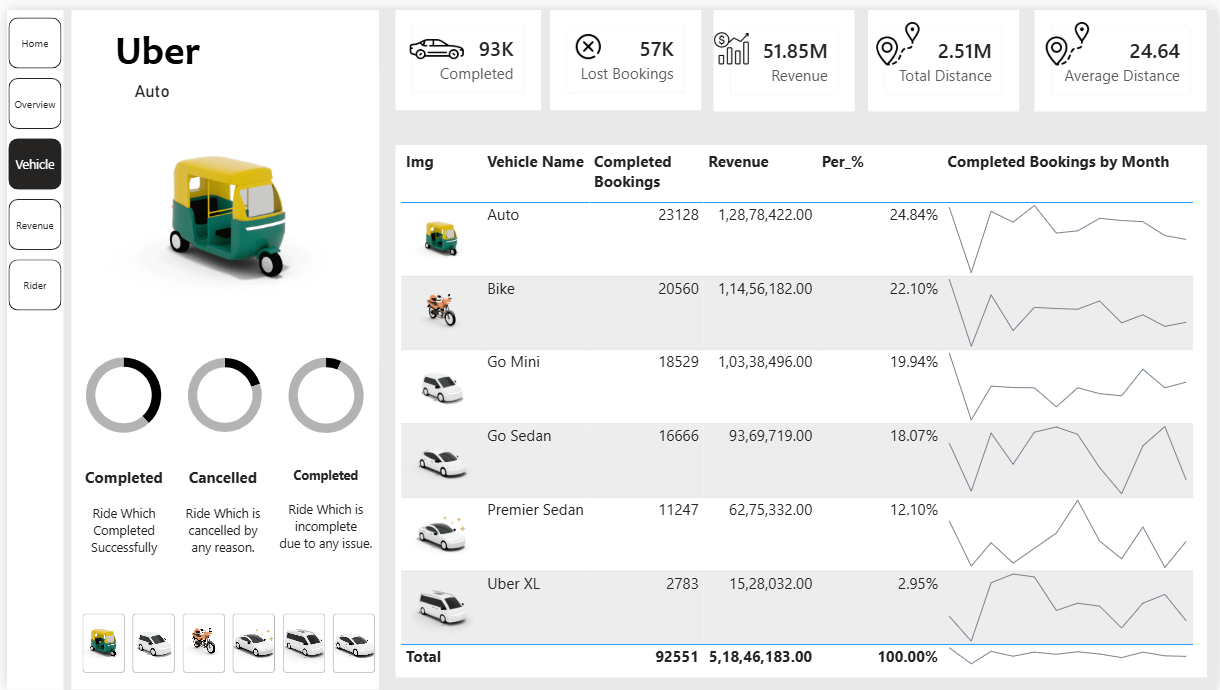

What the dashboard file says about the page in this screenshot:
{"tool":"powerbi","page":{"name":" Vehicle","canvas":[1280,720],"ordinal":2},"visuals":[{"type":"shape","box":[0,0,59.7,719.4],"z":0},{"type":"shape","box":[68.5,0.7,325.4,719],"z":0,"group":"g1"},{"type":"cardVisual","fields":{"Data":["_measure.Completed Bookings"]},"box":[410.4,0,153.7,106],"z":1000},{"type":"cardVisual","fields":{"Data":["_measure.Lost Bookings"]},"box":[574.6,0,159.7,106],"z":2000},{"type":"textbox","box":[110.1,12.1,107.1,64.2],"z":2000,"group":"g1"},{"type":"cardVisual","fields":{"Data":["_measure.Booking Value"]},"box":[747.8,0,149.3,107.5],"z":3000},{"type":"cardVisual","fields":{"Data":["_measure.Total Distance"]},"box":[910.4,0,159.7,107.5],"z":4000},{"type":"group","id":"g1","title":"Group 1","box":[68.5,0.7,325.4,719],"z":5000},{"type":"cardVisual","fields":{"Data":["_measure.Average Distance"]},"box":[1086.6,0,182.1,107.5],"z":6000},{"type":"advancedSlicerVisual","fields":{"Values":["Img.Img"]},"box":[74.6,633.3,325.4,73],"z":7000},{"type":"cardVisual","fields":{"Data":["Min(Img.Img)"]},"box":[74.6,61.9,319,311.1],"z":8000},{"type":"card","fields":{"Values":["Min(Img.Vehicle Type)"]},"box":[69.8,63.5,166.7,44.4],"z":9000},{"type":"textbox","box":[71.4,477.8,104.8,131.7],"z":10000},{"type":"group","id":"g2","title":"Group 4","box":[68.3,342.9,323.8,128.6],"z":11000},{"type":"textbox","box":[176.2,477.8,104.8,131.7],"z":12000},{"type":"textbox","box":[281,477.8,112.7,131.7],"z":13000},{"type":"image","box":[417.5,12.7,74.6,57.1],"z":14000},{"type":"image","box":[734.9,22.2,63.5,36.5],"z":15000},{"type":"image","box":[911.1,12.7,63.5,46],"z":16000},{"type":"image","box":[1090.5,12.7,63.5,46],"z":17000},{"type":"image","box":[590.5,25.4,49.2,27],"z":18000},{"type":"tableEx","fields":{"Values":["Img.Img","Uber.Vehicle_Type_ve","_measure.Completed Bookings","_measure.Revenue","_measure.Per_%","SparklineData(_measure.Completed Bookings_[calender.Month])"]},"box":[410.3,142.3,858.6,563.3],"z":19000},{"type":"pageNavigator","box":[1.5,7.5,56.7,310.4],"z":20000},{"type":"donutChart","fields":{"Y":["_measure.Booking count","_measure.remove Bookings status Filter"]},"box":[176.2,342.9,107.9,128.6],"z":20000,"group":"g2"},{"type":"donutChart","fields":{"Y":["_measure.Booking count","_measure.remove Bookings status Filter"]},"box":[282.6,347.4,109.5,119.6],"z":21000,"group":"g2"},{"type":"donutChart","fields":{"Y":["_measure.Booking count","_measure.remove Bookings status Filter"]},"box":[68.3,342.9,109.5,128.6],"z":22000,"group":"g2"}]}

Visuals, with their boxes in screenshot pixels (x1, y1, x2, y2), scaled from the page's 1280x720 canvas onto the 1220x690 screenshot:
shape: (left=0, top=0, right=57, bottom=689)
shape: (left=65, top=1, right=375, bottom=689)
cardVisual - _measure.Completed Bookings: (left=391, top=0, right=538, bottom=102)
cardVisual - _measure.Lost Bookings: (left=548, top=0, right=700, bottom=102)
textbox: (left=105, top=12, right=207, bottom=73)
cardVisual - _measure.Booking Value: (left=713, top=0, right=855, bottom=103)
cardVisual - _measure.Total Distance: (left=868, top=0, right=1020, bottom=103)
"Group 1" group: (left=65, top=1, right=375, bottom=689)
cardVisual - _measure.Average Distance: (left=1036, top=0, right=1209, bottom=103)
advancedSlicerVisual - Img.Img: (left=71, top=607, right=381, bottom=677)
cardVisual - Min(Img.Img): (left=71, top=59, right=375, bottom=357)
card - Min(Img.Vehicle Type): (left=67, top=61, right=225, bottom=103)
textbox: (left=68, top=458, right=168, bottom=584)
"Group 4" group: (left=65, top=329, right=374, bottom=452)
textbox: (left=168, top=458, right=268, bottom=584)
textbox: (left=268, top=458, right=375, bottom=584)
image: (left=398, top=12, right=469, bottom=67)
image: (left=700, top=21, right=761, bottom=56)
image: (left=868, top=12, right=929, bottom=56)
image: (left=1039, top=12, right=1100, bottom=56)
image: (left=563, top=24, right=610, bottom=50)
tableEx - Img.Img x Uber.Vehicle_Type_ve: (left=391, top=136, right=1209, bottom=676)
pageNavigator: (left=1, top=7, right=55, bottom=305)
donutChart - _measure.Booking count x _measure.remove Bookings status Filter: (left=168, top=329, right=271, bottom=452)
donutChart - _measure.Booking count x _measure.remove Bookings status Filter: (left=269, top=333, right=374, bottom=448)
donutChart - _measure.Booking count x _measure.remove Bookings status Filter: (left=65, top=329, right=169, bottom=452)
